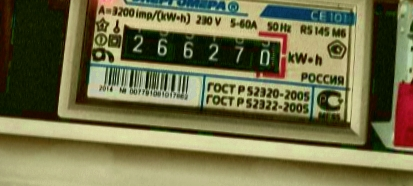0: (254, 45, 270, 66)
2: (128, 31, 143, 53), (205, 40, 219, 61)
6: (153, 34, 167, 56), (179, 38, 194, 58)
7: (231, 42, 242, 62)
screen: (106, 12, 293, 84)
